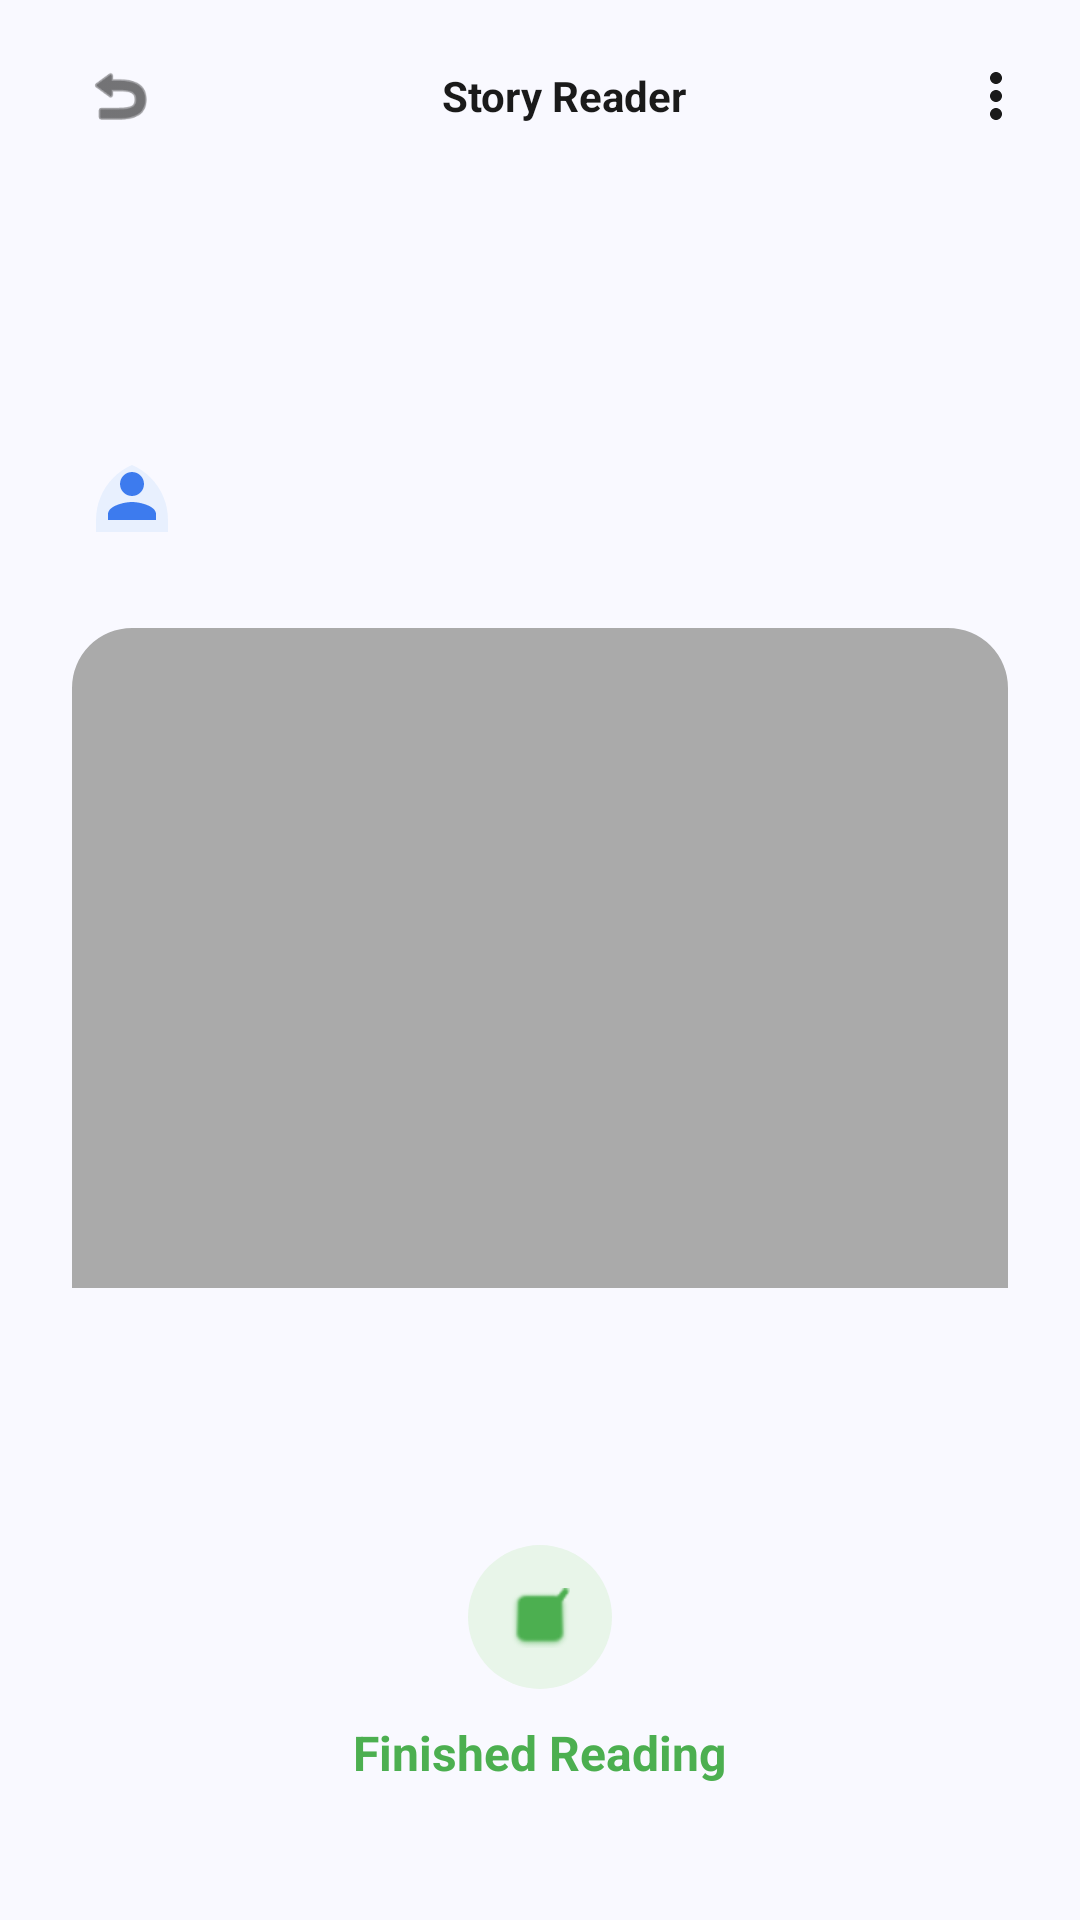

Where icons sit on this 1080×1920 app screen, as (x1, y1, x2, y2):
more vert: (990, 72, 1002, 120)
profile: (108, 472, 156, 520)
revert: (95, 73, 147, 120)
